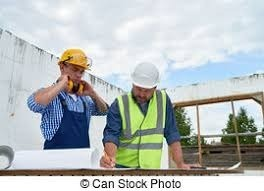helmet: (129, 60, 162, 90), (57, 46, 94, 72)
person with full safety: (110, 61, 167, 167)
person with partial safety: (39, 47, 96, 145)
safety vest: (114, 92, 160, 165)
